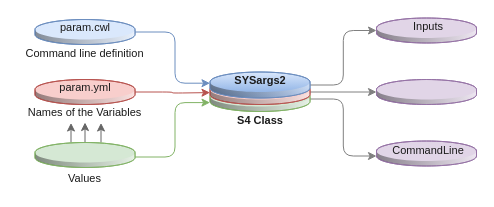
Image size: 494x207. Some labels were removed from this diagram. The centre of each missing label's shape, as x and y in pixels:
Outputs: (x=426, y=91)
targets.txt: (x=84, y=155)
